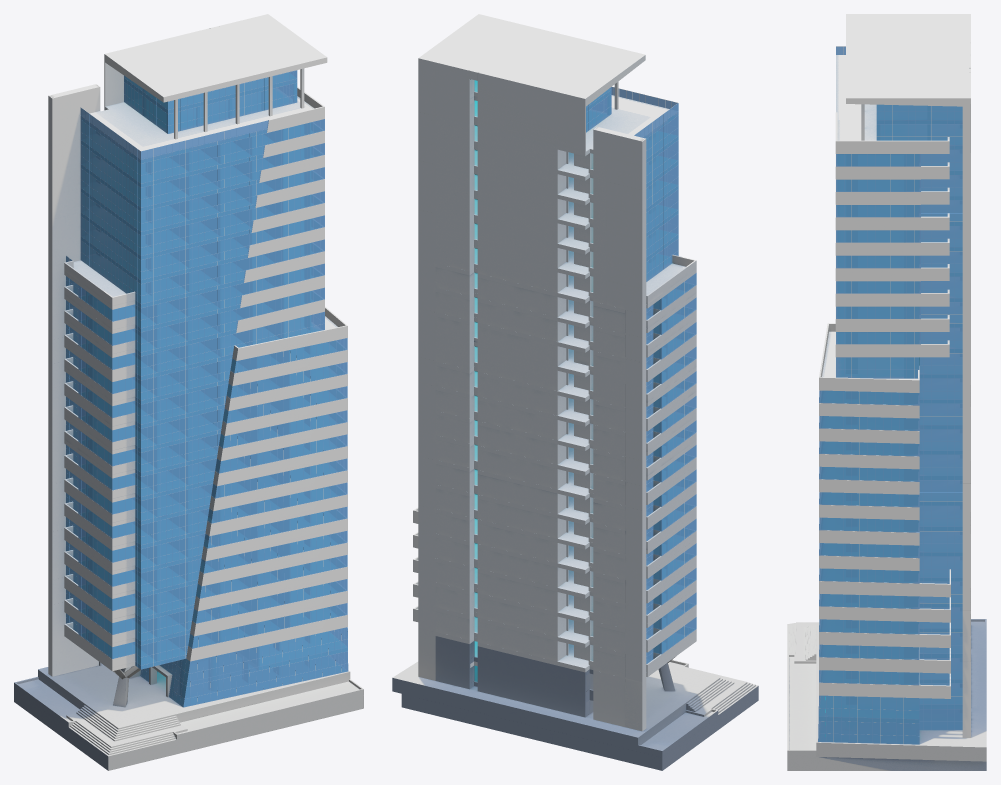
Rendered from kumirshal.glb.
3 views of the same model, side by side, from view 1: azimuth 30°, elevation 25°; view 2: azimuth 150°, elevation 25°; view 3: azimuth 270°, elevation 25° (orthographic). The views are drawn at different scales.
Visible parts, largest first — view 1: WindowGlass_Material #26_0; view 2: WindowGlass_Material #26_0; view 3: WindowGlass_Material #26_0.
Boxes of the visible parts, x1,y1,x2,y2 form: WindowGlass_Material #26_0: (14, 14, 363, 770); WindowGlass_Material #26_0: (392, 14, 758, 770); WindowGlass_Material #26_0: (787, 14, 986, 770).
Bounding box in the file's own units: 3.65 × 8.33 × 2.25.
Materials: 18 (16 with a texture image).
